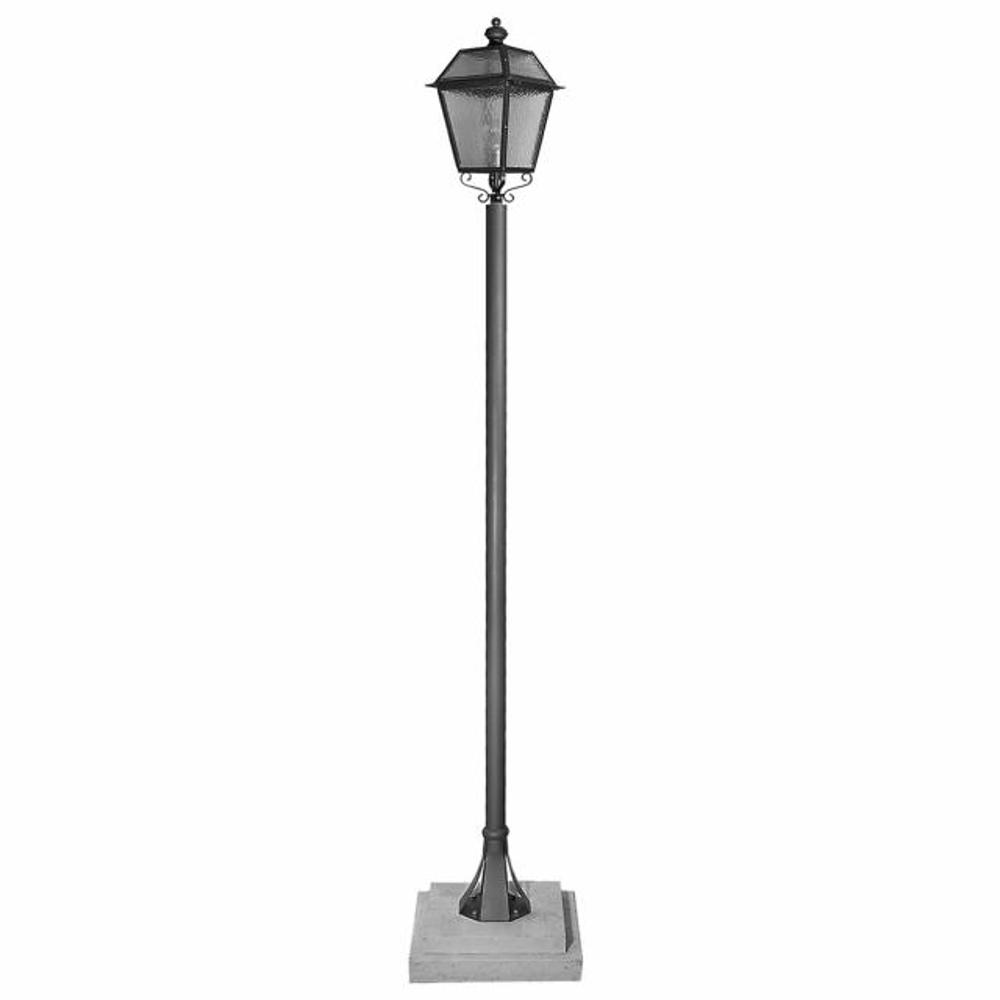shelf: (414, 12, 589, 985)
